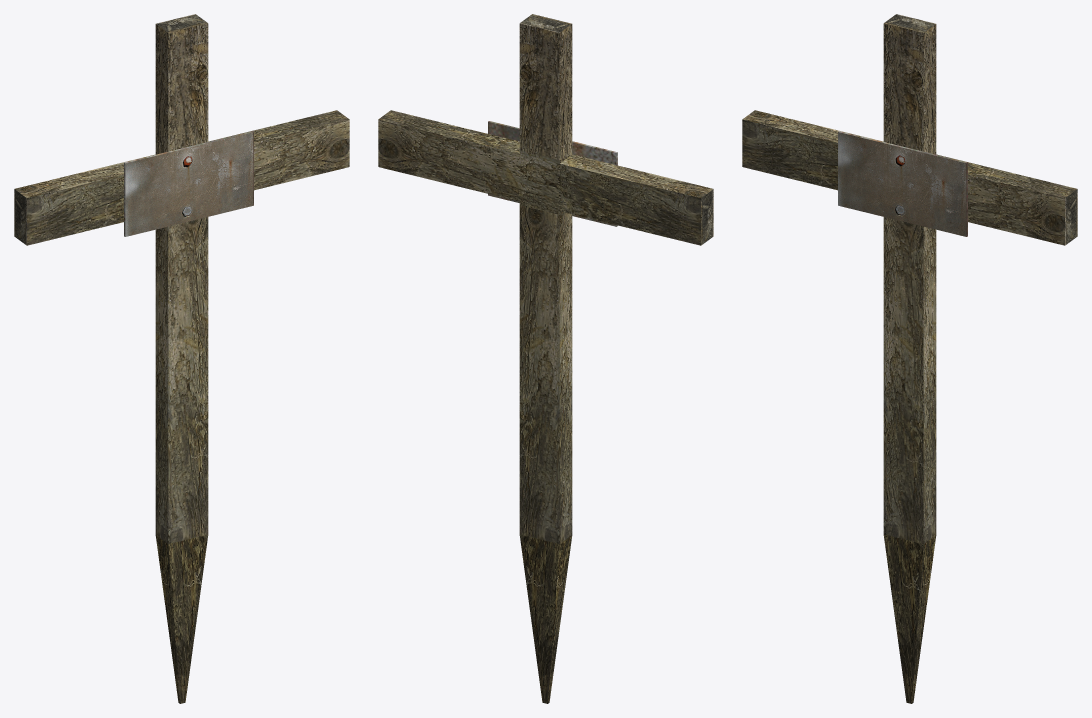
File: CrossMarker.fbx
3 views of the same model, side by side, from view 1: azimuth 30°, elevation 25°; view 2: azimuth 150°, elevation 25°; view 3: azimuth 330°, elevation 25° (orthographic).
Visible parts, largest first — view 1: polySurface1; view 2: polySurface1; view 3: polySurface1.
Part boxes in pixels (left/top/right/bottom): polySurface1: left=14, top=14, right=349, bottom=703; polySurface1: left=378, top=14, right=713, bottom=703; polySurface1: left=742, top=14, right=1077, bottom=703.
Size of the model in its own units: 0.6189 by 1.24 by 0.0464.
